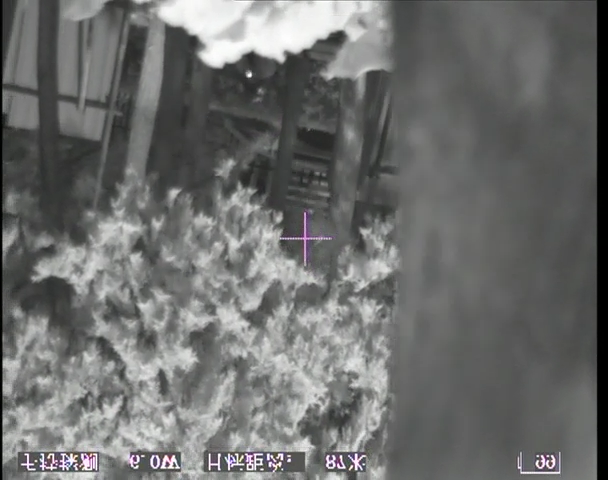my: (244, 68, 254, 80)
